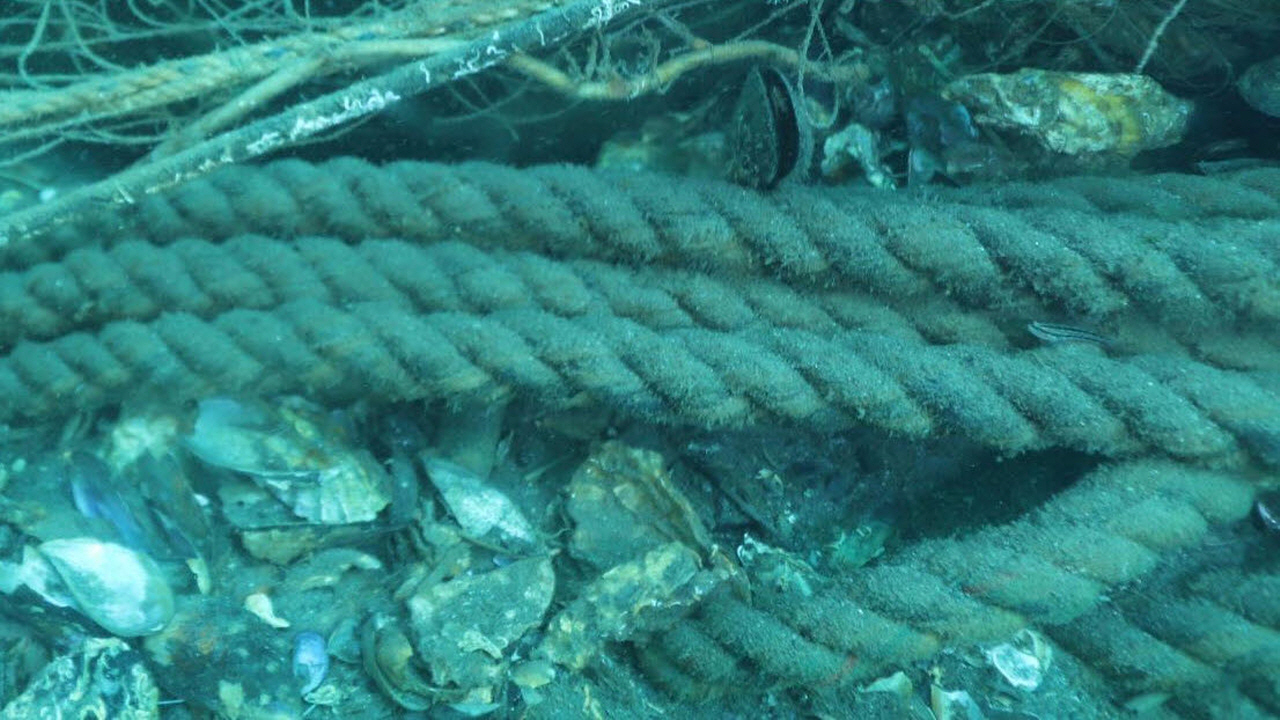bundle of ropes: (0, 142, 1280, 720)
